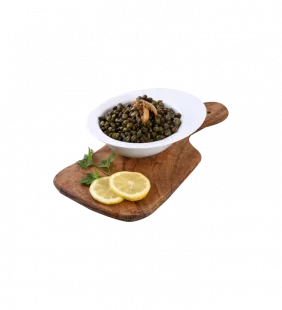Le KG: (44, 76, 236, 228)
